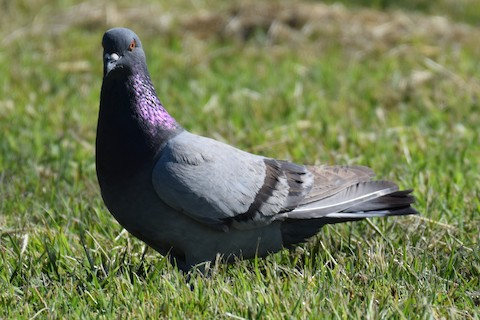pigeon: (86, 25, 431, 290)
